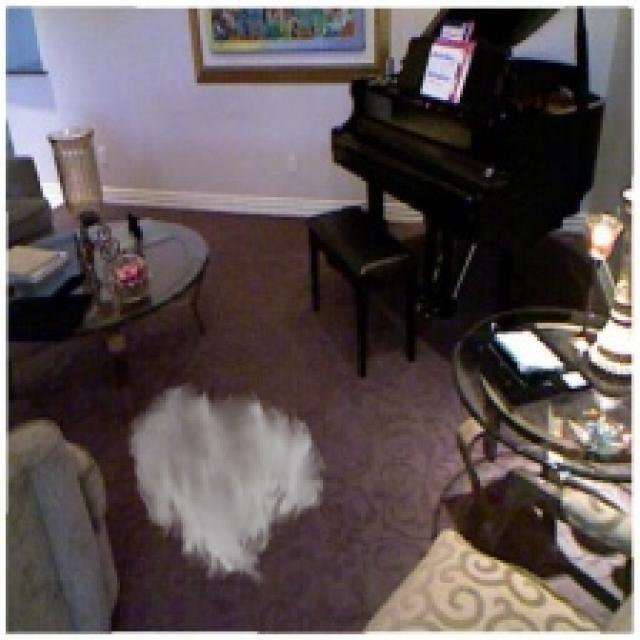Smoke: (125, 381, 328, 588)
